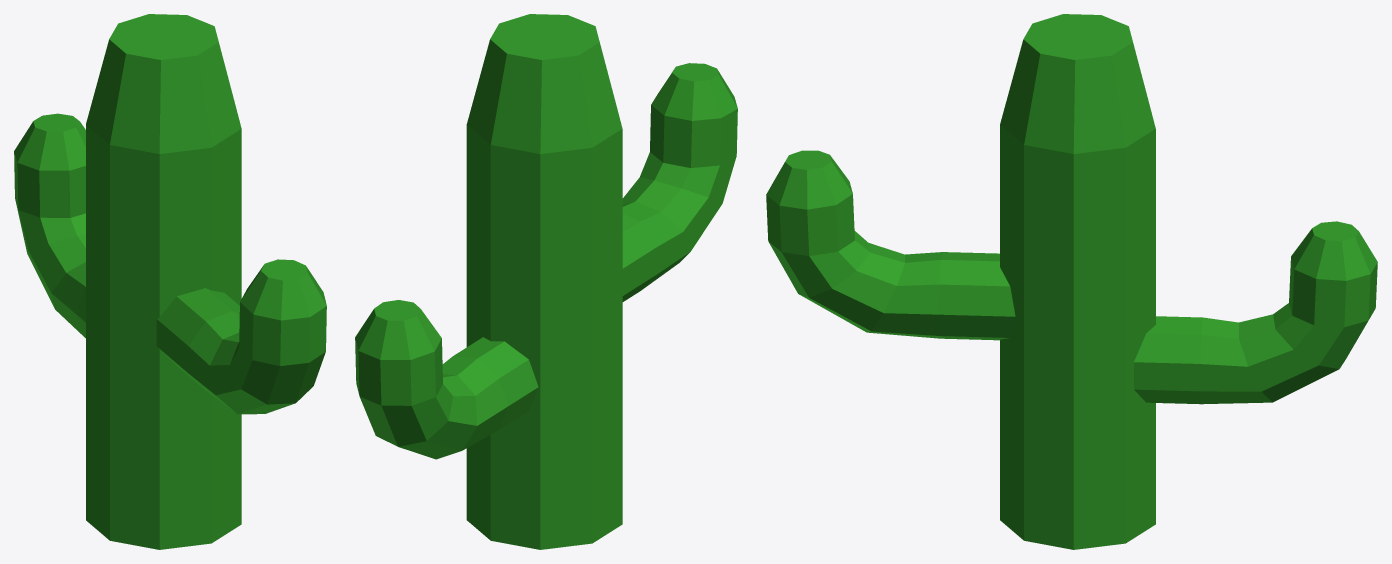
Rendered from cactus.glb.
3 renders of one model, left to right at view 1: azimuth 30°, elevation 25°; view 2: azimuth 150°, elevation 25°; view 3: azimuth 270°, elevation 25°, orthographic.
Visible parts, largest first — view 1: cactus; view 2: cactus; view 3: cactus.
Part boxes in pixels (<box>): cactus: <box>14,14,326,549</box>; cactus: <box>355,14,737,549</box>; cactus: <box>766,14,1377,549</box>.
Bounding box in the file's own units: 0.4006 × 1.37 × 1.58.
